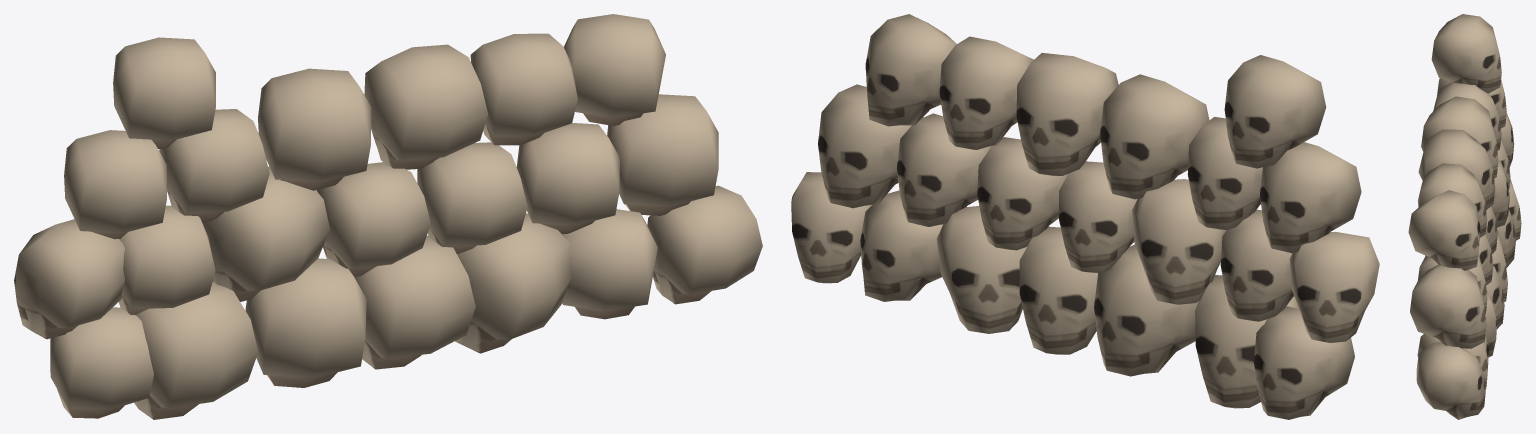
File: crypt_skull_heap_b.gltf
3 renders of one model, left to right at view 1: azimuth 30°, elevation 25°; view 2: azimuth 150°, elevation 25°; view 3: azimuth 270°, elevation 25°, orthographic. The views are drawn at different scales.
Visible parts, largest first — view 1: crypt_skull_heap_b; view 2: crypt_skull_heap_b; view 3: crypt_skull_heap_b.
Boxes of the visible parts, <box> form: crypt_skull_heap_b: <box>14,14,762,419</box>; crypt_skull_heap_b: <box>791,14,1379,419</box>; crypt_skull_heap_b: <box>1408,14,1521,419</box>.
Bounding box in the file's own units: 2.1 × 1.12 × 0.4753.
Materials: 1 (1 with a texture image).
